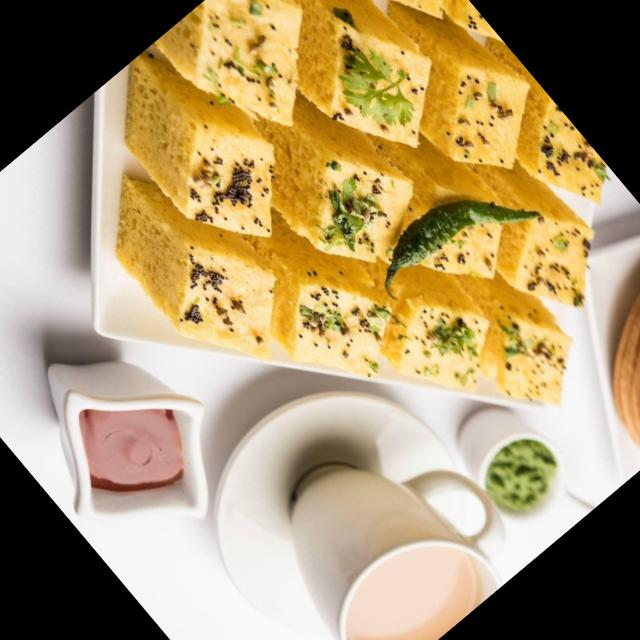dhokla: (23, 0, 640, 577)
